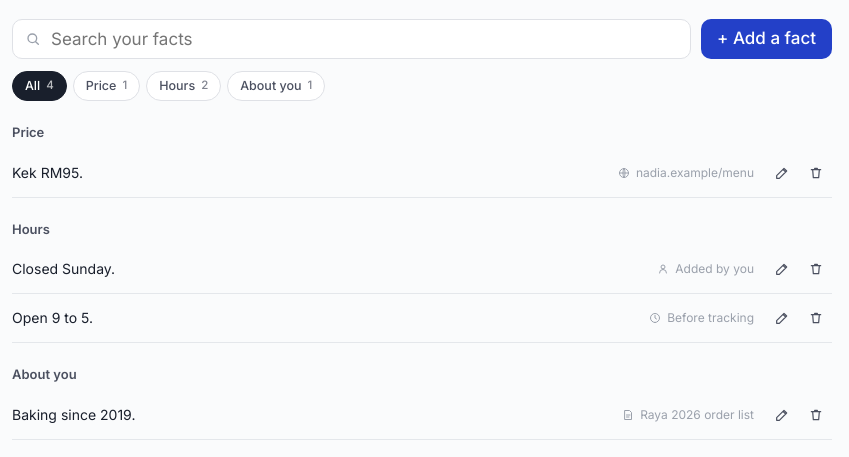
Test case: FactList › filters by search
Type "sunday" into the search field named "Search facts".
click(364, 39); type("sunday")  # box [49,20,678,58]
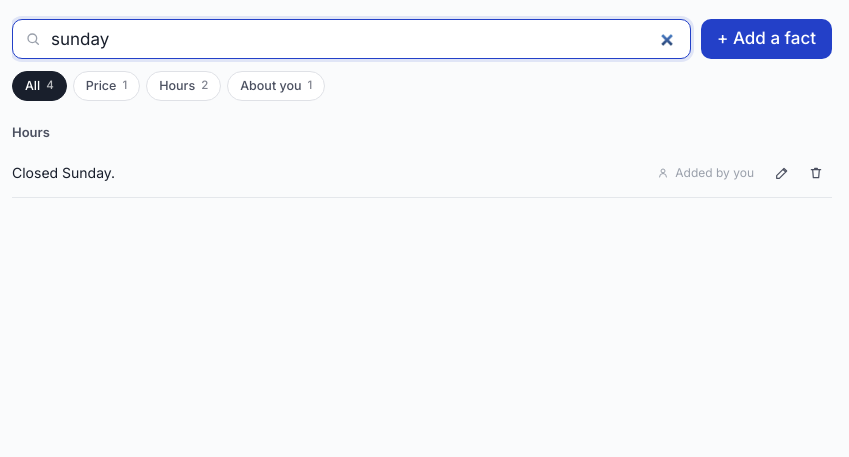
Expected: the text "Closed Sunday." is shown, [12,163,115,180]
Result: the text "Kek RM95." is gone
